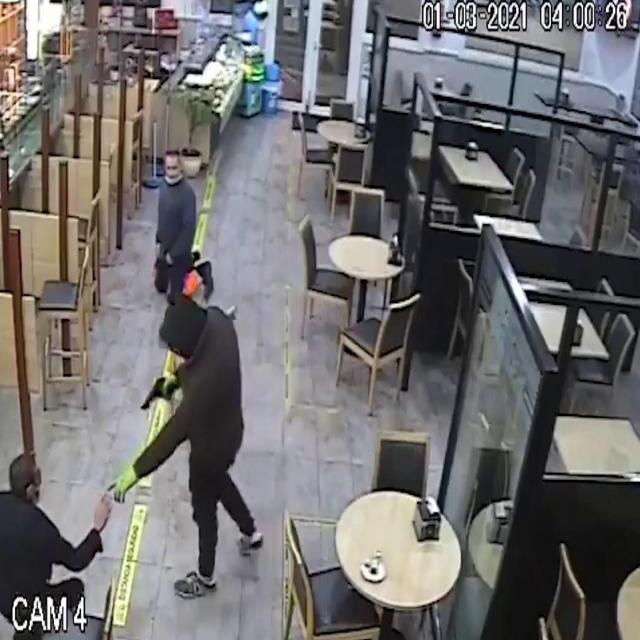weapon: (132, 364, 182, 424)
